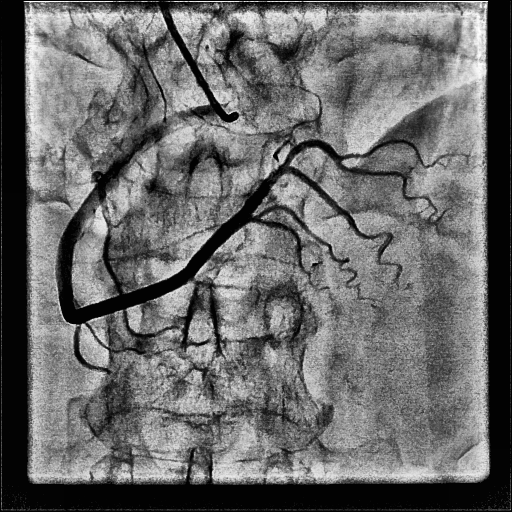pborca: (185, 140, 342, 279)
rca: (56, 104, 214, 324)
